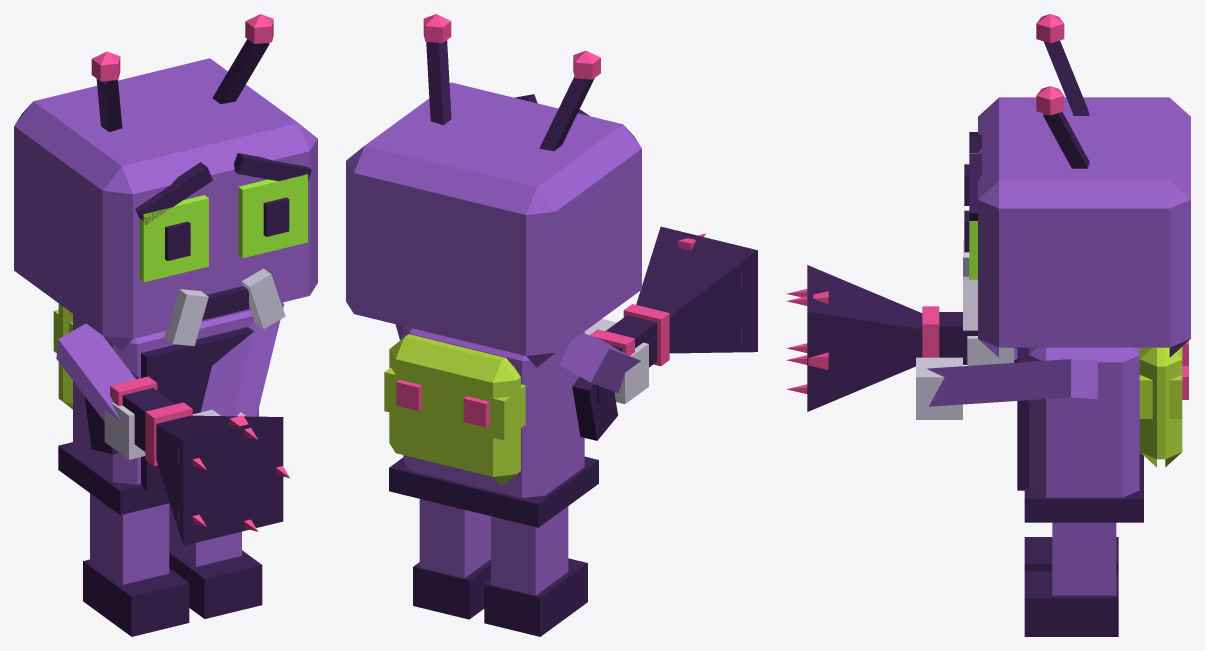
The model's file is shotgunner_r11.glb.
The picture shows the model from 3 angles, left to right: view 1: azimuth 30°, elevation 25°; view 2: azimuth 150°, elevation 25°; view 3: azimuth 270°, elevation 25°; orthographic projection. The views are drawn at different scales.
Visible parts, largest first — view 1: shotgunner_r11_mesh; view 2: shotgunner_r11_mesh; view 3: shotgunner_r11_mesh.
Boxes of the visible parts, x1=… form: shotgunner_r11_mesh: x1=14, y1=14, x2=317, y2=636; shotgunner_r11_mesh: x1=346, y1=14, x2=757, y2=636; shotgunner_r11_mesh: x1=786, y1=14, x2=1190, y2=636.
Bounding box in the file's own units: 0.6458 × 1.5 × 0.9896.
Materials: 1 (1 with a texture image).
